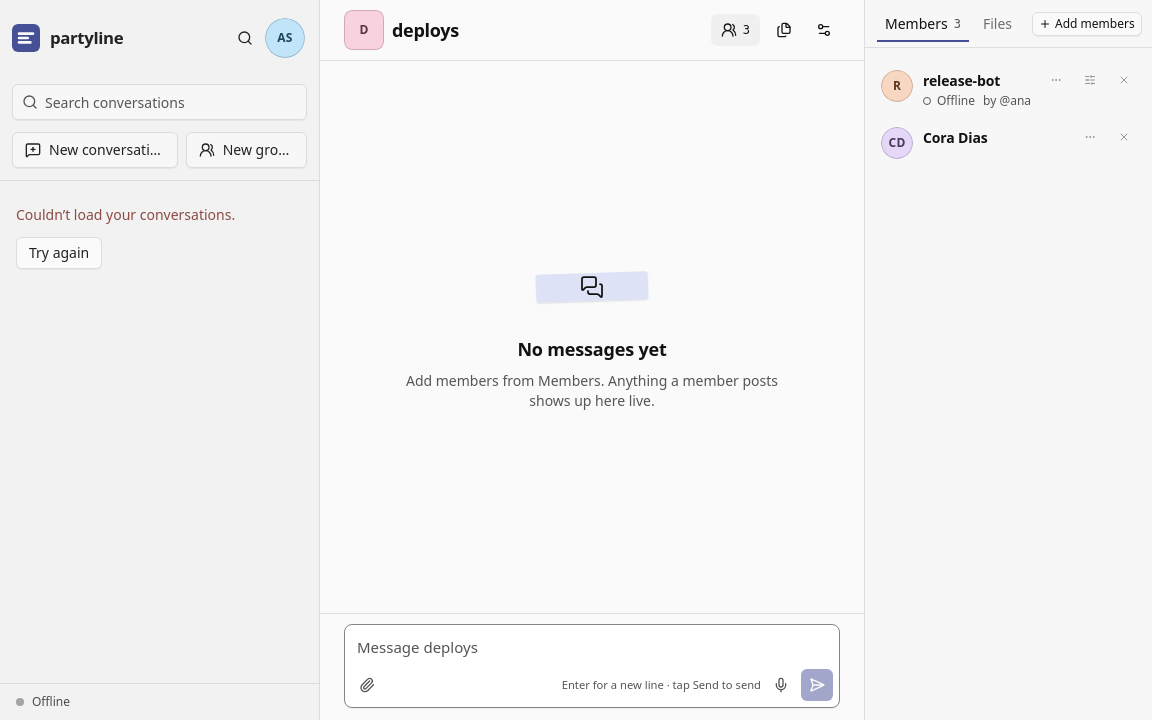
it: member picker (UI-10) › offers the AIs and users the user can add that are not members yet, filterable by text
The width and height of the screenshot is (1152, 720).
Step 1. Click the button "Add members" → (1087, 24), box [1032,12,1142,36]
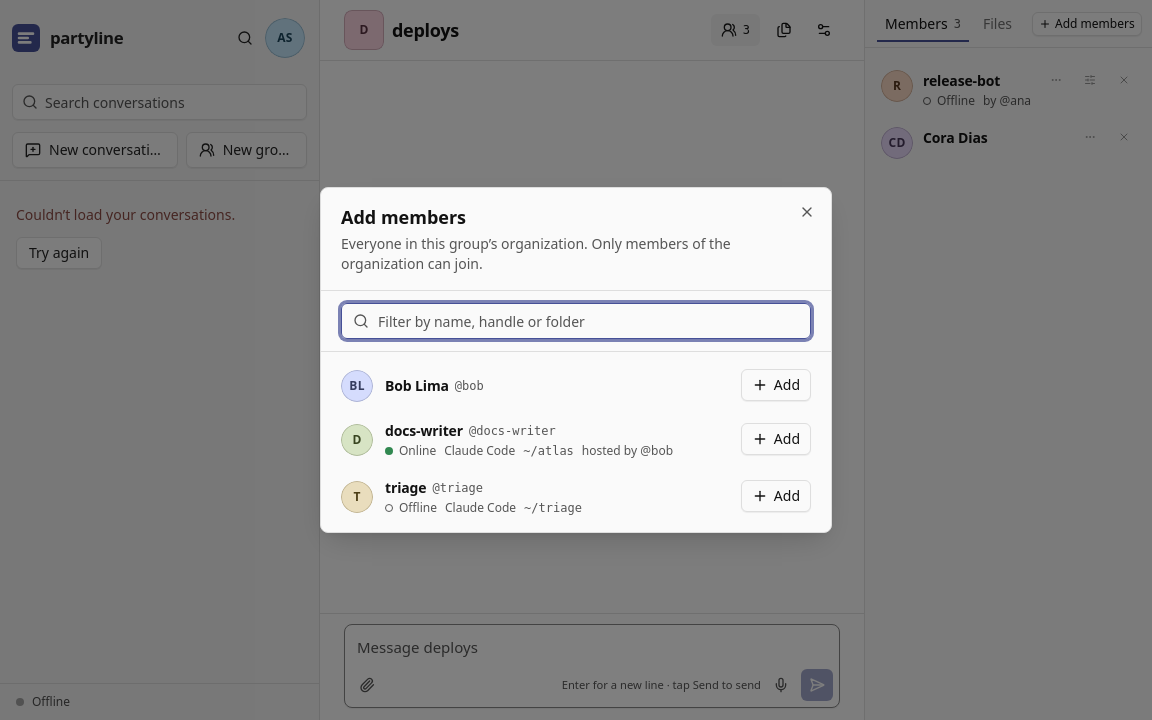
Expected: the list item with test id "candidate-agent-a2" is shown, [321,467,831,524]
Expected: the list item with test id "candidate-agent-a2" shows "triage", [385,478,426,498]
Expected: the list item with test id "candidate-agent-a2" shows "Offline", [399,499,437,516]
Step 2. Type "BOB" into the search field labelled "Filter" → (576, 321), box [341,303,811,339]
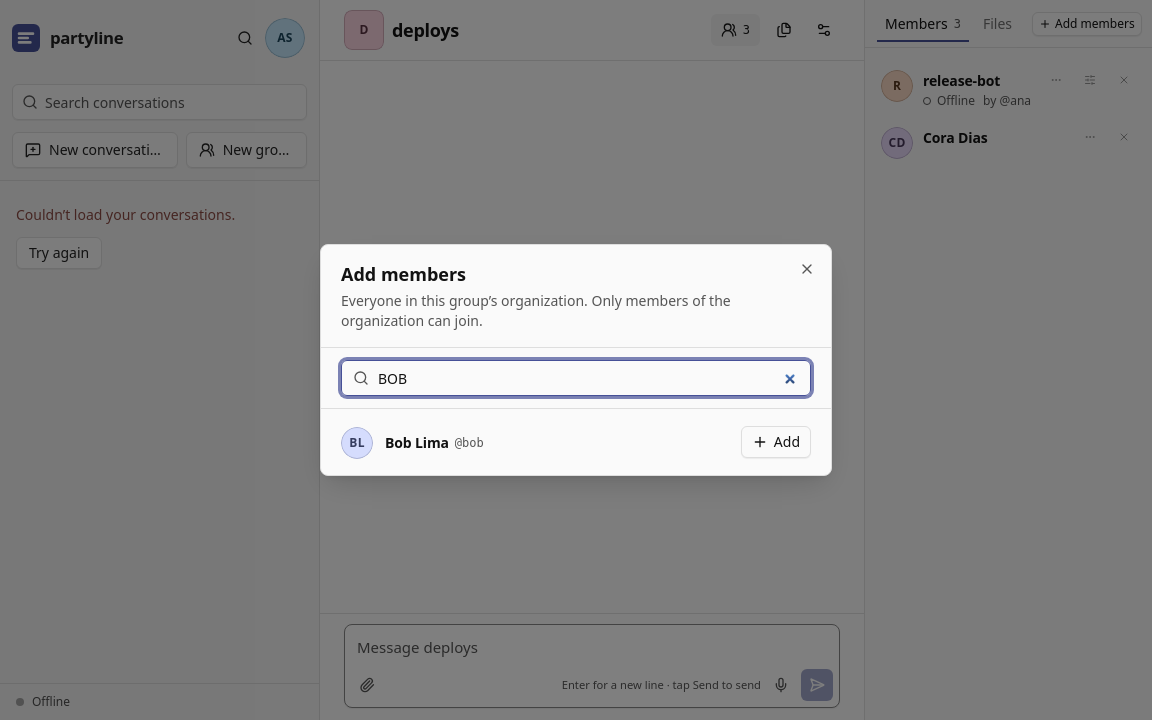
Expected: the list item with test id "candidate-agent-a2" is gone
